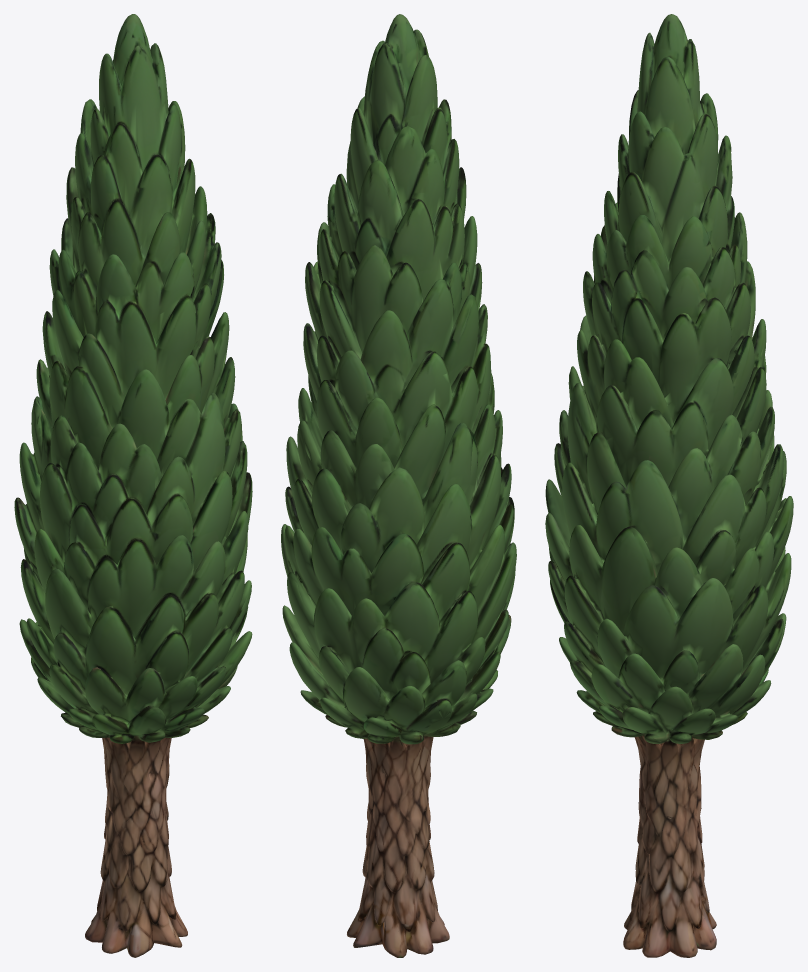
Rendered from prop_cypress.glb.
The picture shows the model from 3 angles, left to right: view 1: azimuth 30°, elevation 25°; view 2: azimuth 150°, elevation 25°; view 3: azimuth 270°, elevation 25°; orthographic projection.
Parts seen in each view (by area): view 1: material; view 2: material; view 3: material.
Boxes of the visible parts, x1=… form: material: x1=14, y1=14, x2=252, y2=957; material: x1=281, y1=14, x2=516, y2=957; material: x1=545, y1=14, x2=793, y2=957.
Size of the model in its own units: 0.2734 by 1.19 by 0.2911.
Materials: 1 (1 with a texture image).
